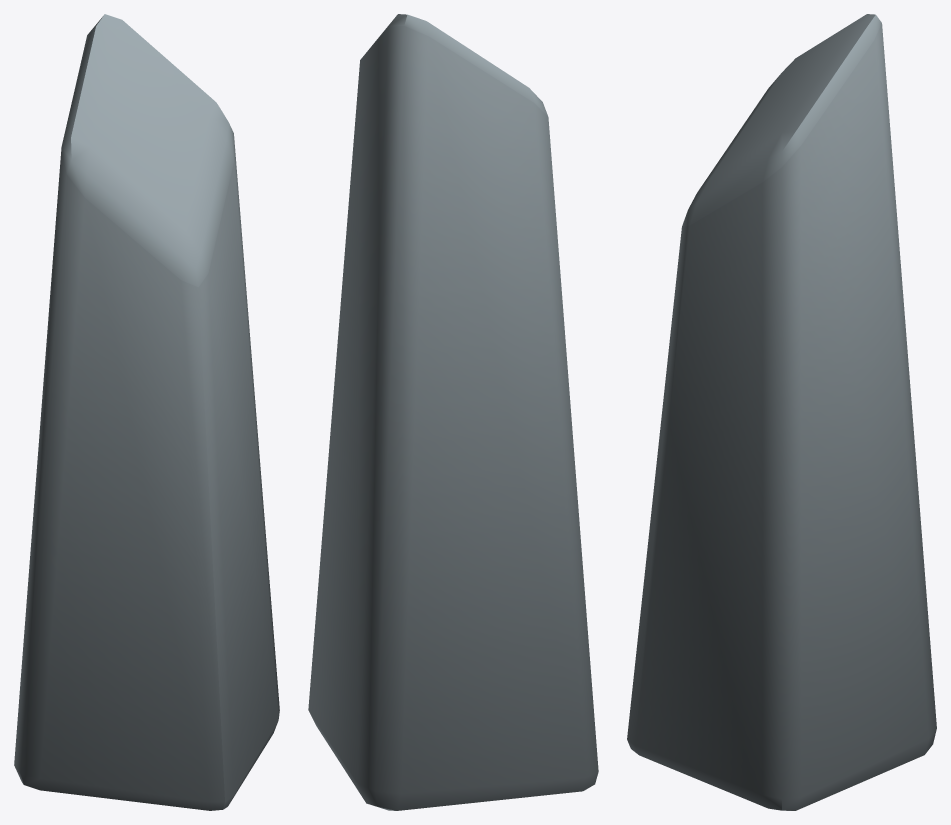
The model's file is Rock_4_D_Color1.gltf.
The picture shows the model from 3 angles, left to right: view 1: azimuth 30°, elevation 25°; view 2: azimuth 150°, elevation 25°; view 3: azimuth 270°, elevation 25°; orthographic projection. The views are drawn at different scales.
Visible parts, largest first — view 1: Rock_4_D_Color1; view 2: Rock_4_D_Color1; view 3: Rock_4_D_Color1.
Boxes of the visible parts, box(x1,y1,x2,y2) form: Rock_4_D_Color1: box(14, 14, 279, 810); Rock_4_D_Color1: box(308, 14, 598, 810); Rock_4_D_Color1: box(627, 14, 936, 810).
Bounding box in the file's own units: 1.36 × 3.59 × 1.36.
Materials: 1 (1 with a texture image).
